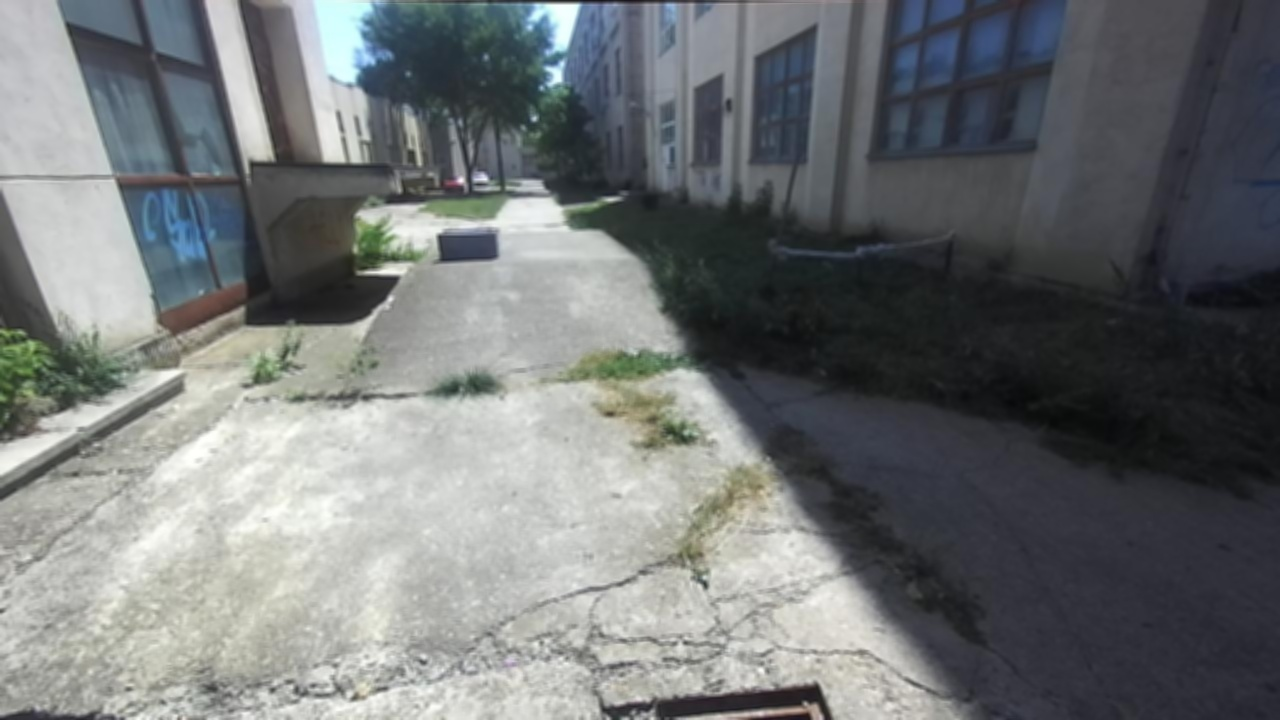drain: (650, 674, 834, 717)
